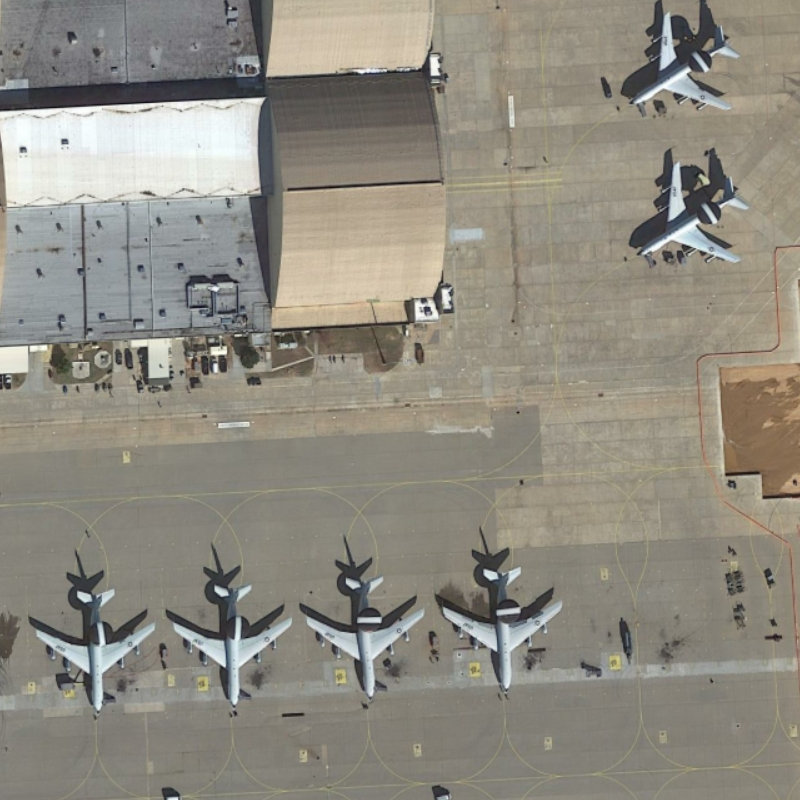A7: (24, 579, 162, 718), (435, 557, 567, 700), (300, 564, 430, 709), (163, 577, 296, 708), (612, 5, 749, 124), (636, 150, 756, 274)
